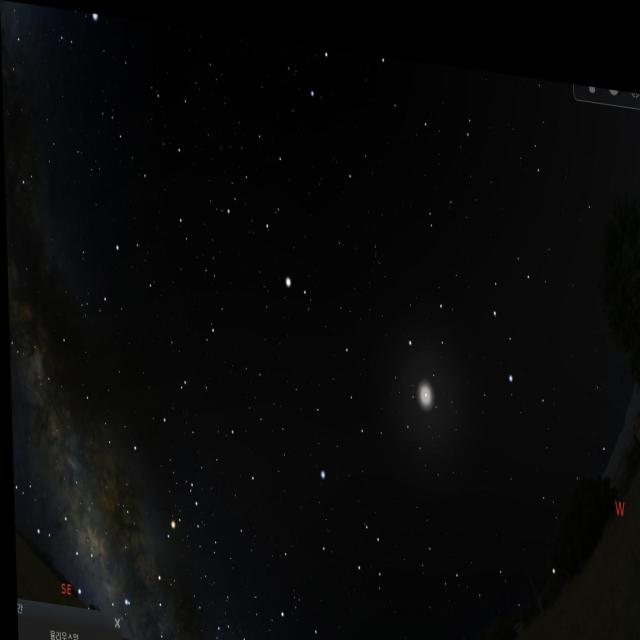bootes: (240, 112, 320, 312)
leo: (398, 210, 539, 395)
lyra: (50, 6, 109, 61)
moon: (394, 348, 450, 420)
scorpius: (112, 460, 206, 640)
